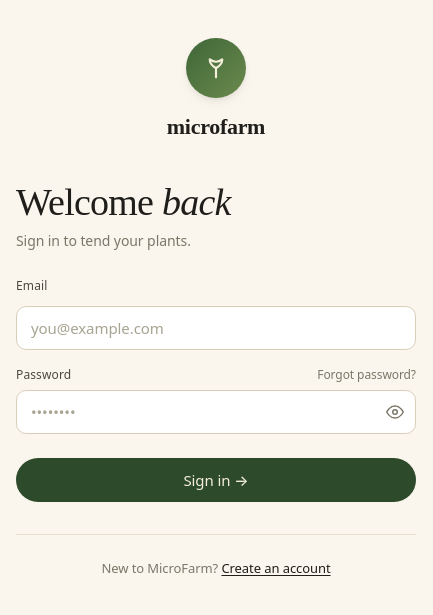
it: LoginPage › shows error when email is empty on submit
The width and height of the screenshot is (433, 615).
Click the button "Sign in →": (216, 480) [16,458,416,502]
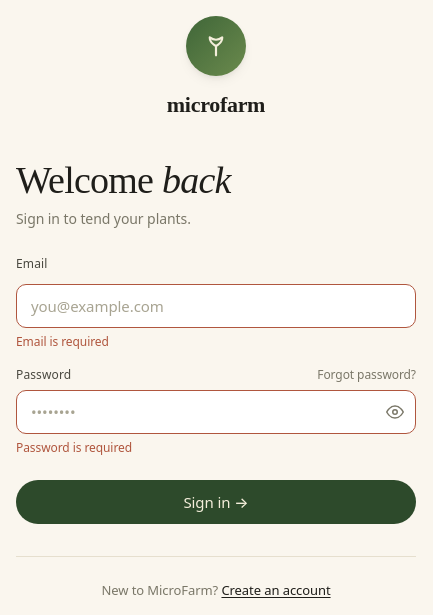
expect the text "Email is required" is shown: met, box [16,333,109,350]
